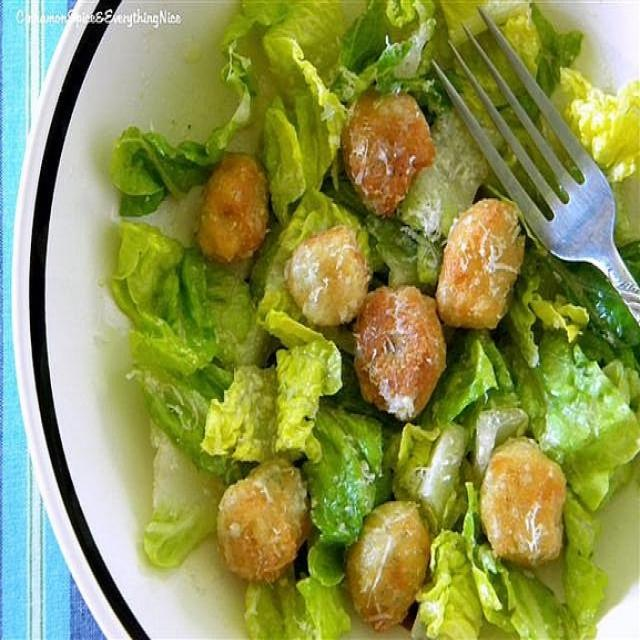蔬菜料理: (41, 10, 618, 634)
